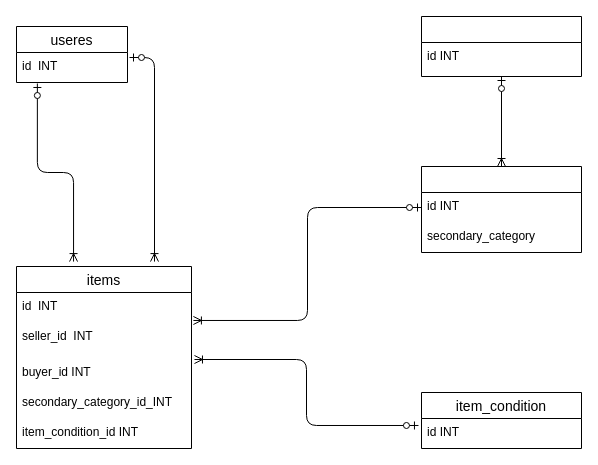
This 598x465 diagram has some shape labels left out. Here are the shapes that lost their labels. From the top down, the box of each, then its label:
(420, 16, 582, 76): primary_categories
(420, 166, 582, 252): secondary_categories
